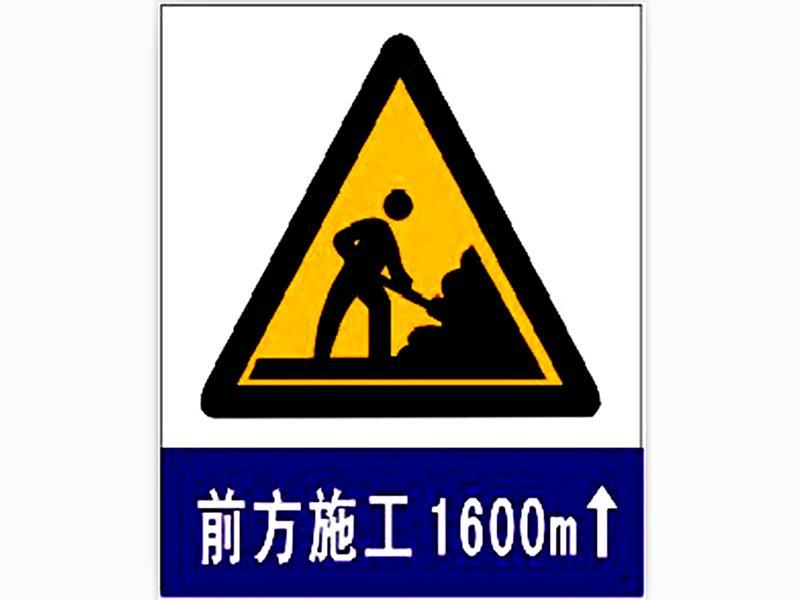sign: (172, 14, 633, 587)
